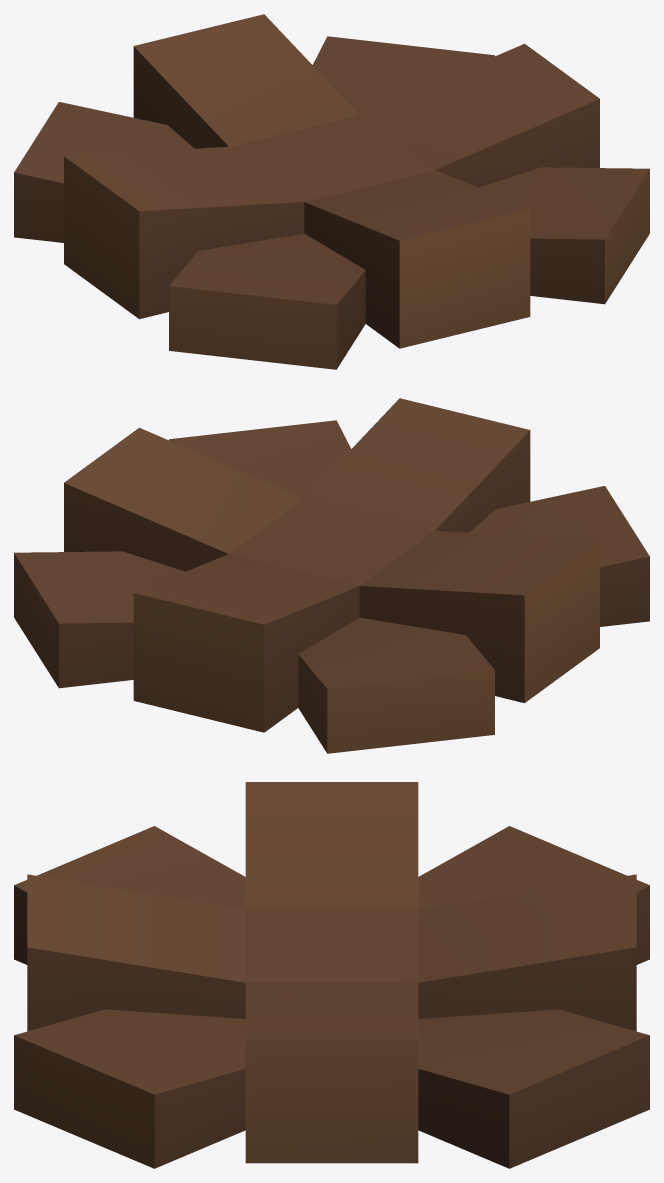
File: campfire.glb
3 views of the same model, one above another, from view 1: azimuth 30°, elevation 25°; view 2: azimuth 150°, elevation 25°; view 3: azimuth 270°, elevation 25° (orthographic). The views are drawn at different scales.
Parts seen in each view (by area): view 1: campfire; view 2: campfire; view 3: campfire.
Part boxes in pixels (box(x1,y1,x2,y2)): campfire: box(14, 14, 649, 369); campfire: box(14, 398, 649, 753); campfire: box(14, 782, 649, 1168).
Bounding box in the file's own units: 0.95 × 0.2038 × 0.95.
